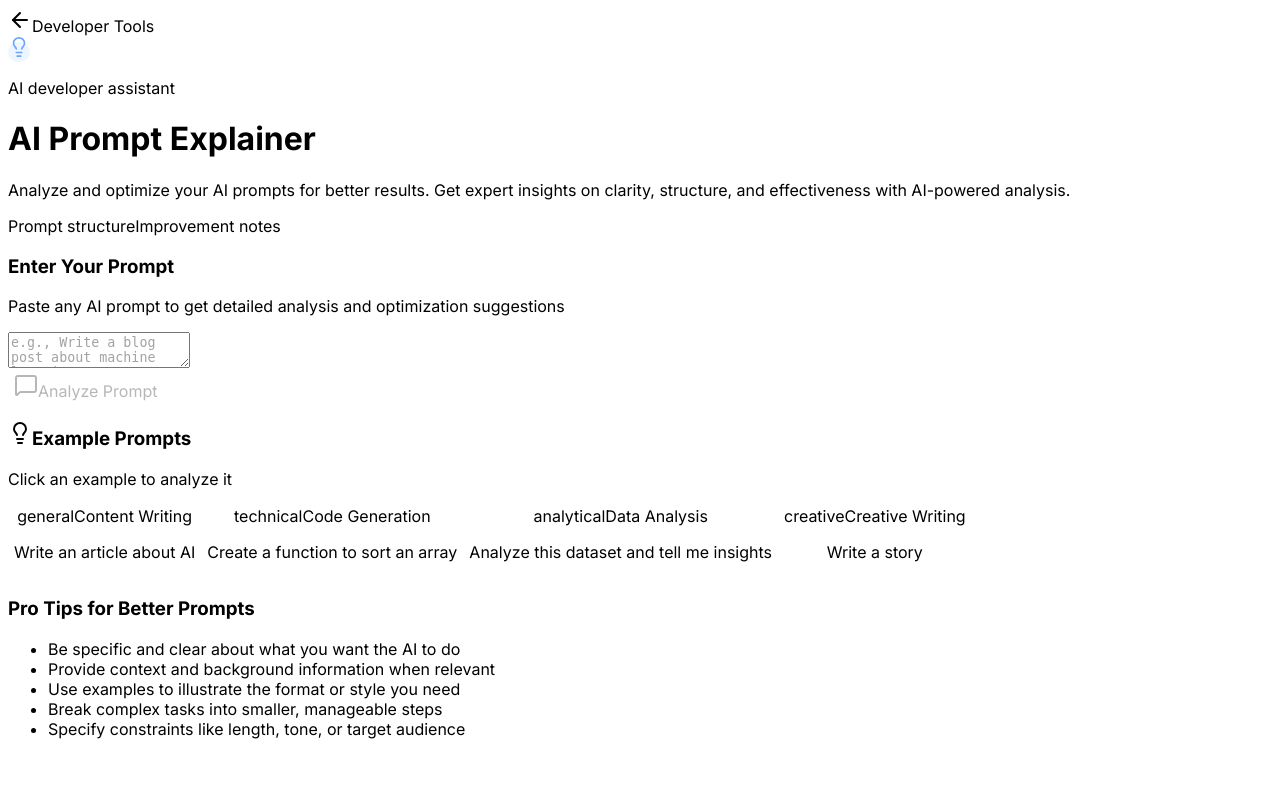
AI Prompt Explainer - Example Loading Tests › should load example prompt when clicked
This screenshot has width=1280, height=800.
What coordinates should you click on to do the following:
click the button "Content Writing"
I would click on:
 (105, 542)
Its box is [8,505,201,579].
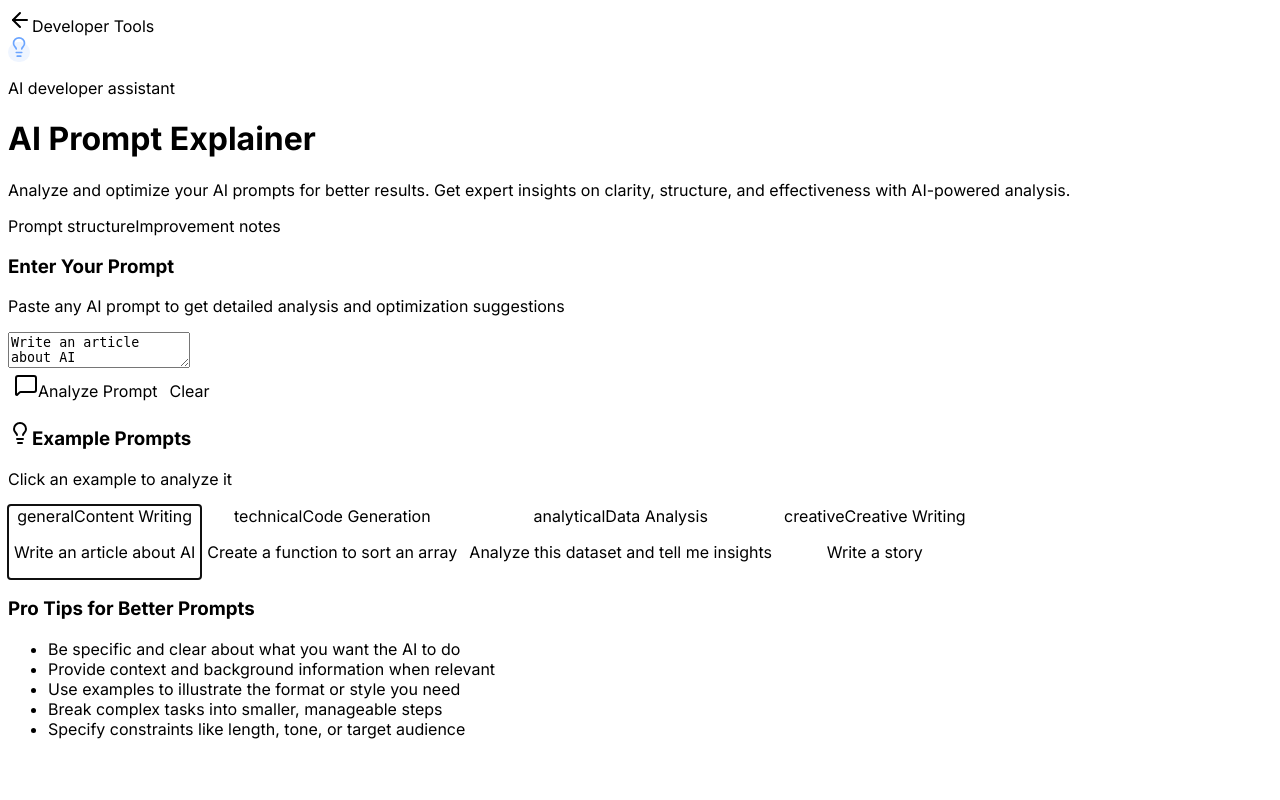
Now the text box with placeholder "Write a blog post about machine learning" holds "Write an article about AI", box [8,332,190,368]
